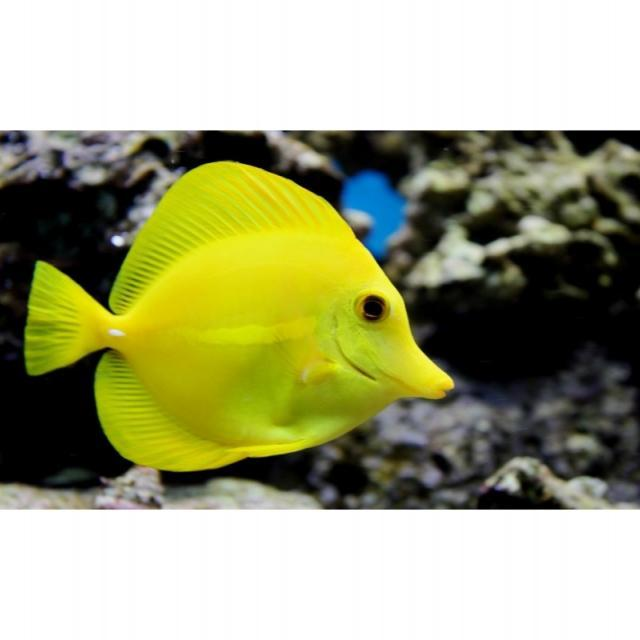YellowTang: (12, 156, 465, 483)
